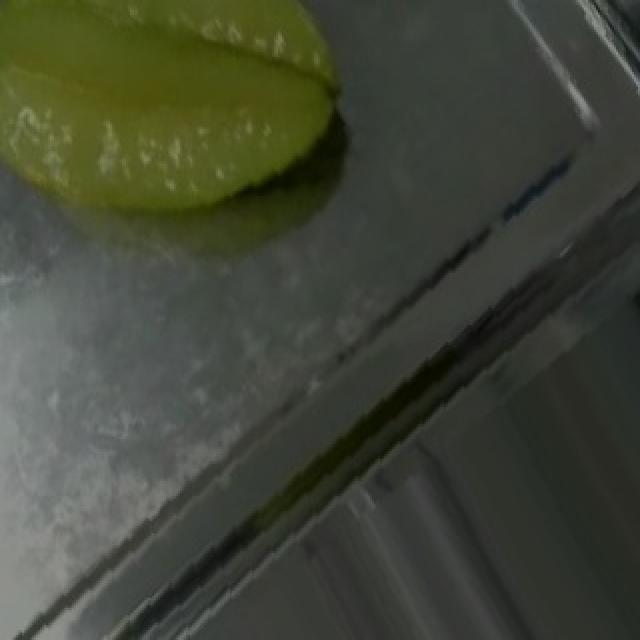fruit: (0, 2, 378, 286)
